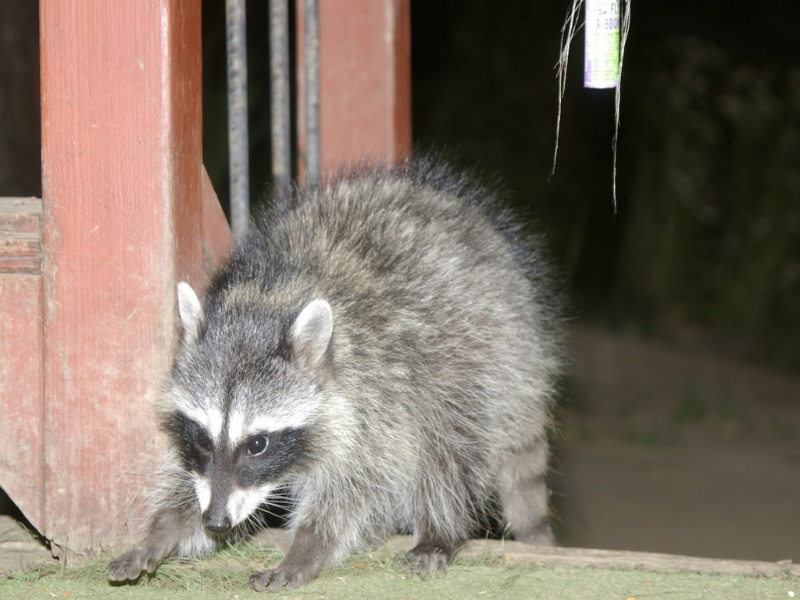raccoon: (95, 170, 577, 596)
